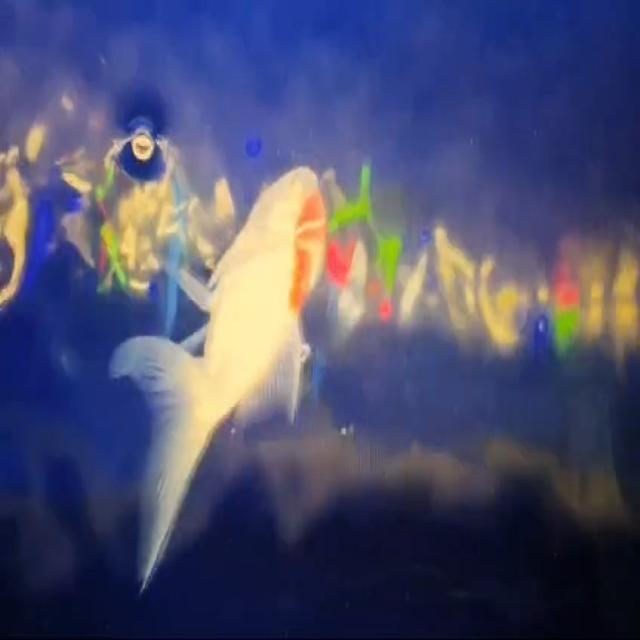fish: (106, 163, 330, 600)
